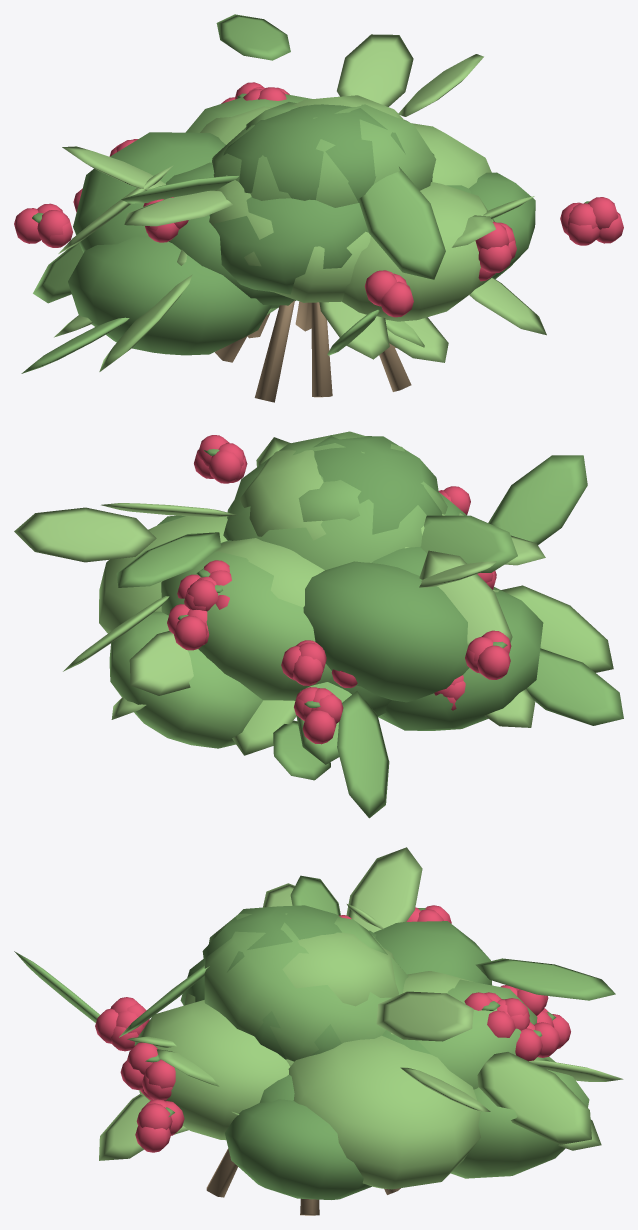
Rendered from berrybush_lite.glb.
3 renders of one model, top to bottom at view 1: azimuth 30°, elevation 25°; view 2: azimuth 150°, elevation 25°; view 3: azimuth 270°, elevation 25°, orthographic. The views are drawn at different scales.
Parts seen in each view (by area): view 1: Cone; view 2: Cone; view 3: Cone.
Part boxes in pixels (x1=…): Cone: x1=14, y1=14, x2=623, y2=402; Cone: x1=14, y1=431, x2=623, y2=818; Cone: x1=14, y1=847, x2=623, y2=1215.
Bounding box in the file's own units: 1.73 × 0.8025 × 1.7.
